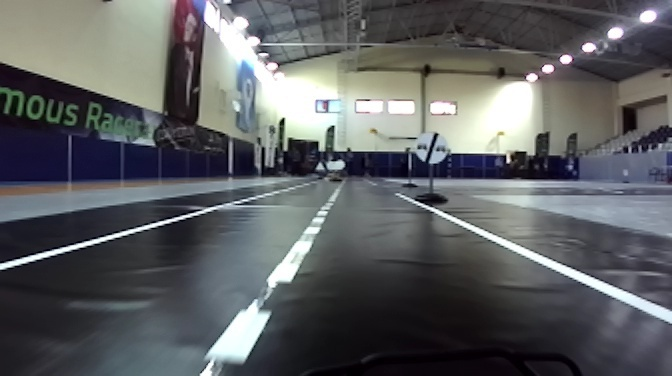sollama_serbest: (412, 131, 448, 165)
